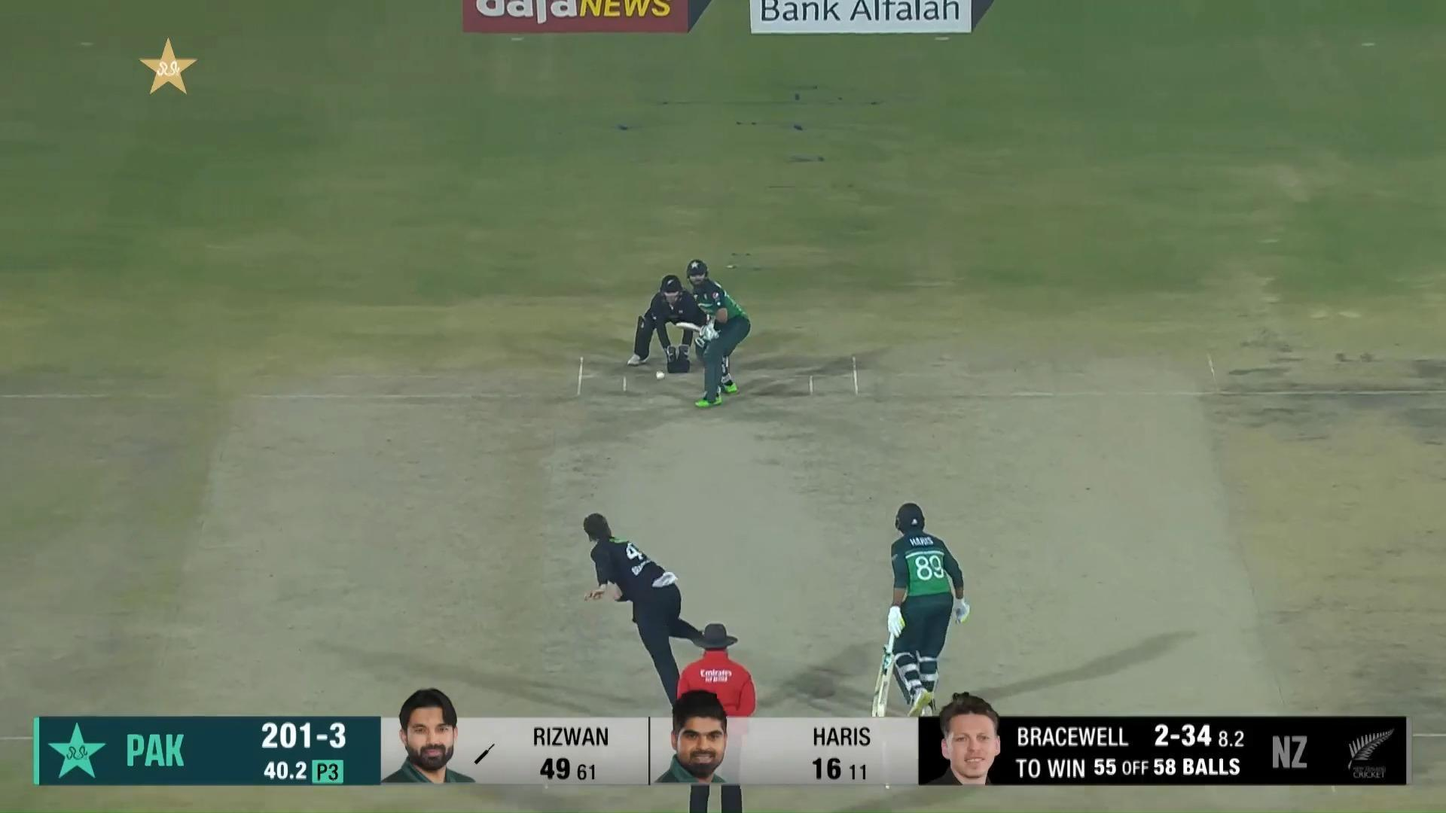BM 1: (675, 258, 750, 408)
BO: (581, 511, 710, 728)
